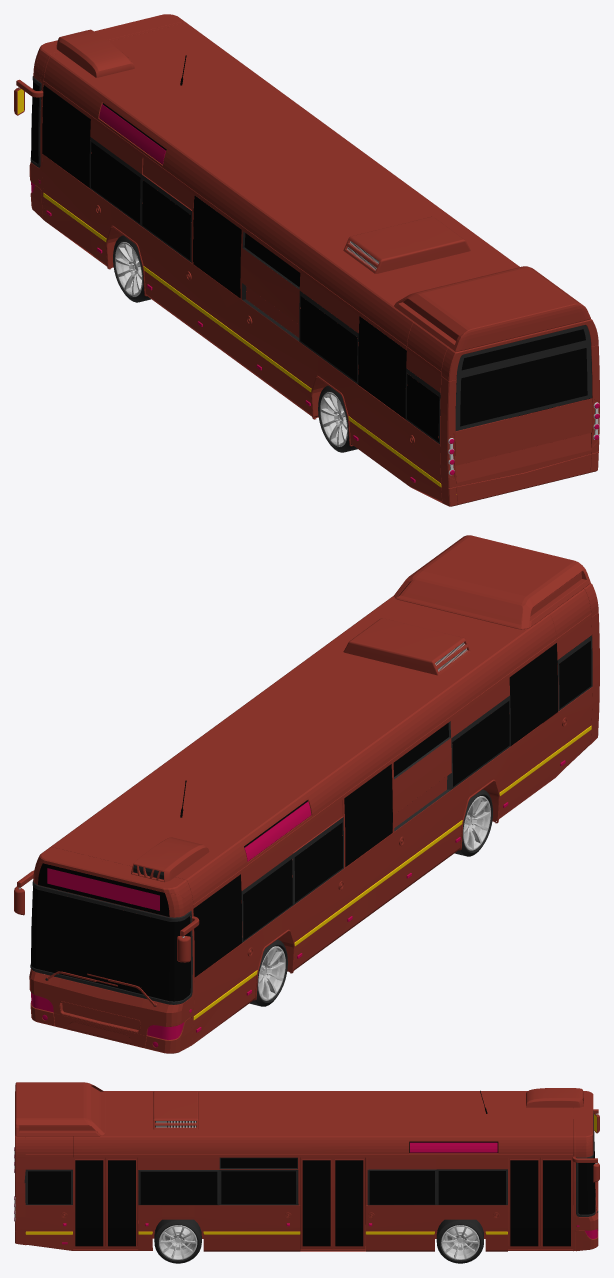
Rendered from bus.glb.
3 renders of one model, top to bottom at view 1: azimuth 30°, elevation 25°; view 2: azimuth 150°, elevation 25°; view 3: azimuth 270°, elevation 25°, orthographic. The views are drawn at different scales.
Visible parts, largest first — view 1: bus_car, bus_car_back_left, bus_car_front_left, bus_car_light; view 2: bus_car, bus_car_light, bus_car_back_left, bus_car_front_left; view 3: bus_car, bus_car_back_right, bus_car_front_right, bus_car_light.
Part boxes in pixels (<box>): bus_car: <box>14,14,599,506</box>; bus_car_back_left: <box>318,385,357,452</box>; bus_car_front_left: <box>113,235,150,302</box>; bus_car_light: <box>31,104,599,482</box>; bus_car: <box>14,535,599,1053</box>; bus_car_light: <box>31,760,565,1047</box>; bus_car_back_left: <box>454,789,492,856</box>; bus_car_front_left: <box>249,939,287,1006</box>; bus_car: <box>14,1082,599,1251</box>; bus_car_back_right: <box>154,1219,201,1263</box>; bus_car_front_right: <box>436,1219,483,1263</box>; bus_car_light: <box>14,1142,597,1244</box>.
Bounding box in the file's own units: 2.95 × 3.5 × 12.43.
